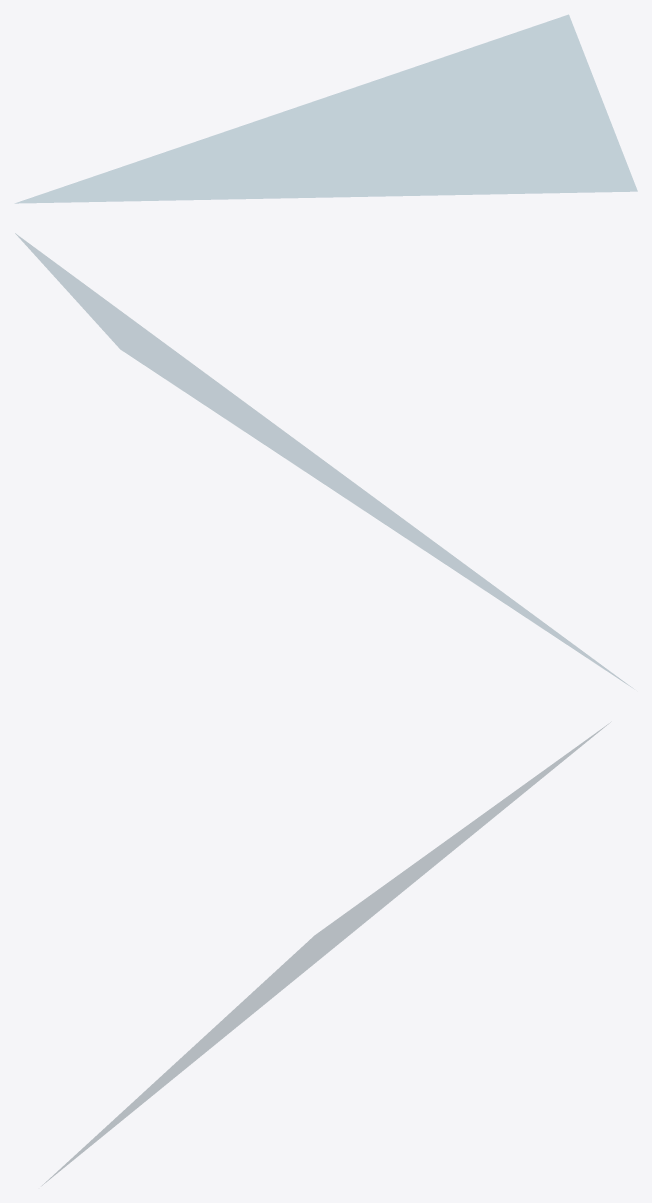
The model's file is StarDeck_Glass_01.fbx.
The picture shows the model from 3 angles, top to bottom: view 1: azimuth 30°, elevation 25°; view 2: azimuth 150°, elevation 25°; view 3: azimuth 270°, elevation 25°; orthographic projection. The views are drawn at different scales.
Parts seen in each view (by area): view 1: StarDeck; view 2: StarDeck; view 3: StarDeck.
Boxes of the visible parts, x1=… form: StarDeck: x1=15, y1=15, x2=637, y2=203; StarDeck: x1=15, y1=233, x2=630, y2=686; StarDeck: x1=44, y1=725, x2=606, y2=1183.
Size of the model in its own units: 1845 by 465 by 957.
